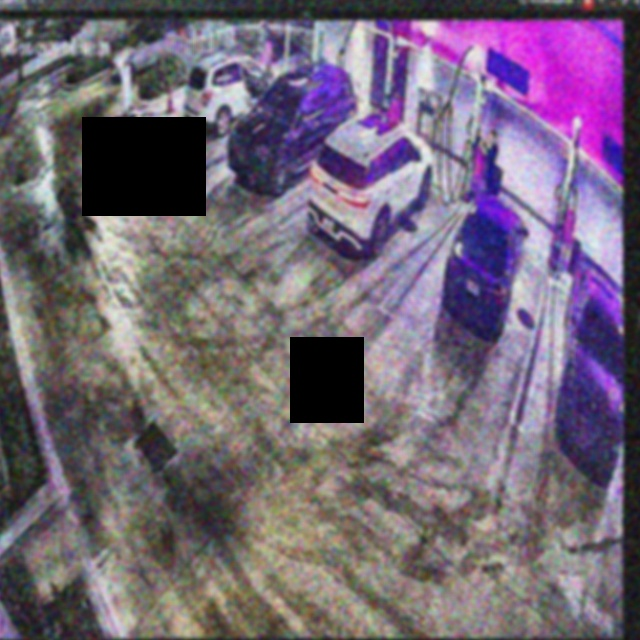Car: (307, 107, 430, 259), (230, 59, 357, 187), (442, 188, 525, 337)
